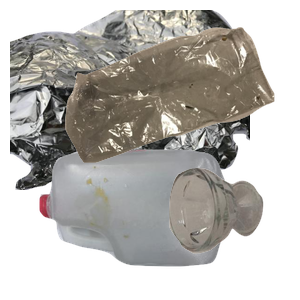glass: (166, 165, 300, 300)
metal: (10, 10, 250, 190)
plastic: (37, 147, 254, 300)
trash: (63, 24, 300, 179)
